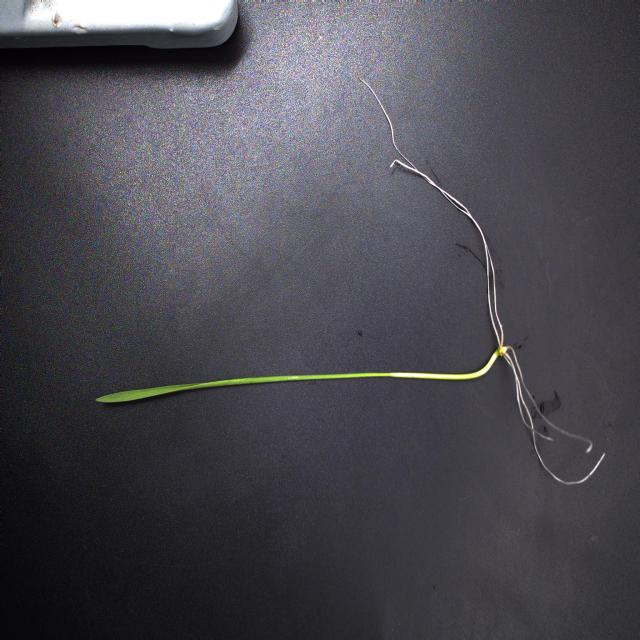leaf: (95, 371, 389, 407)
root: (354, 71, 609, 487)
stem: (389, 349, 501, 382)
